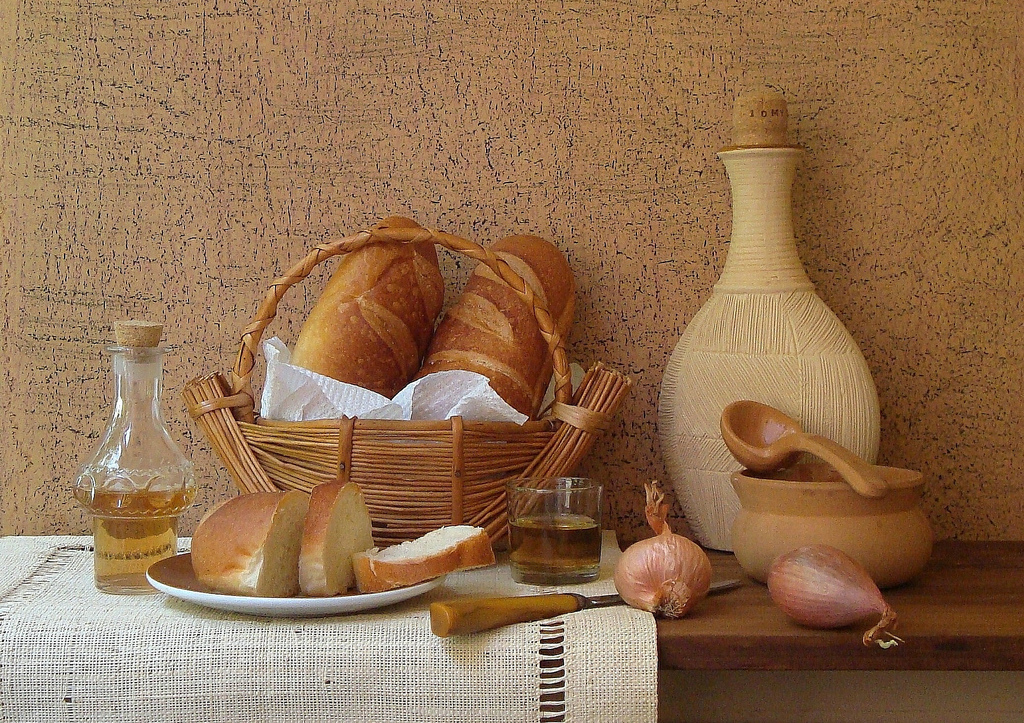slice of bread: (319, 188, 425, 404), (442, 230, 559, 406), (352, 513, 509, 601), (196, 486, 306, 595), (308, 479, 372, 604)
